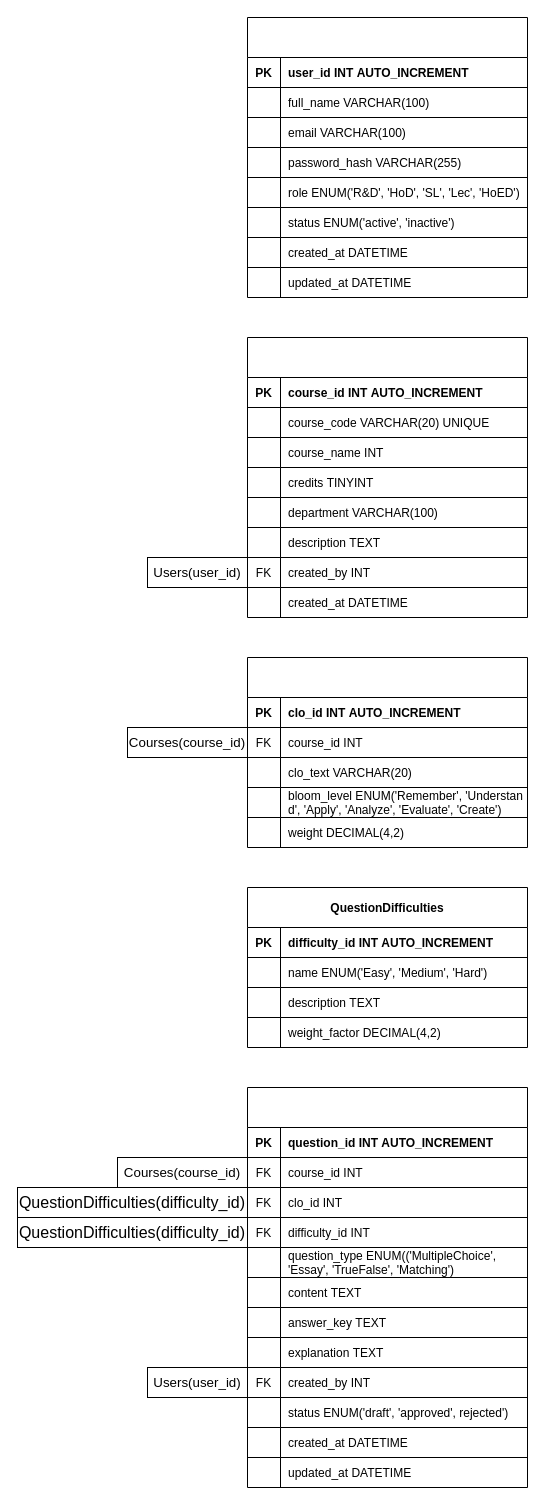
The diagram is 545 pixels wide and 1505 high, and some of its shapes have lost their labels. The box of each missing label's shape, as (x1, y1, x2, y2) in pixels:
CLOs (Course Learning Outcomes): (246, 656, 528, 848)
Courses: (246, 336, 528, 618)
Questions: (246, 1086, 528, 1488)
Users: (246, 16, 528, 298)
